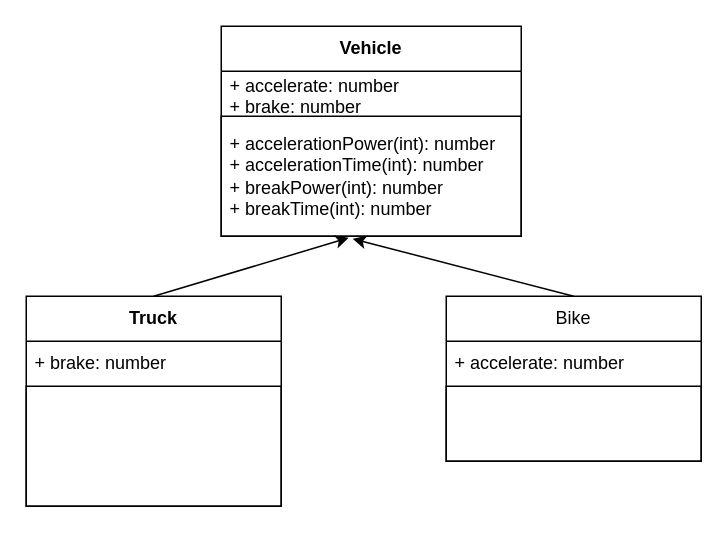
Some shapes in this 728 by 533 pixel diagram are drawn without their labels. The shapes that lost their labels are listed below. From the top down, each one's centre as x and y in pixels, then its label:
the point at 573,423: + appliedPower(int): number
the point at 153,445: + breakPower(int): number + breakTime(int): number + airPressure(int): number
